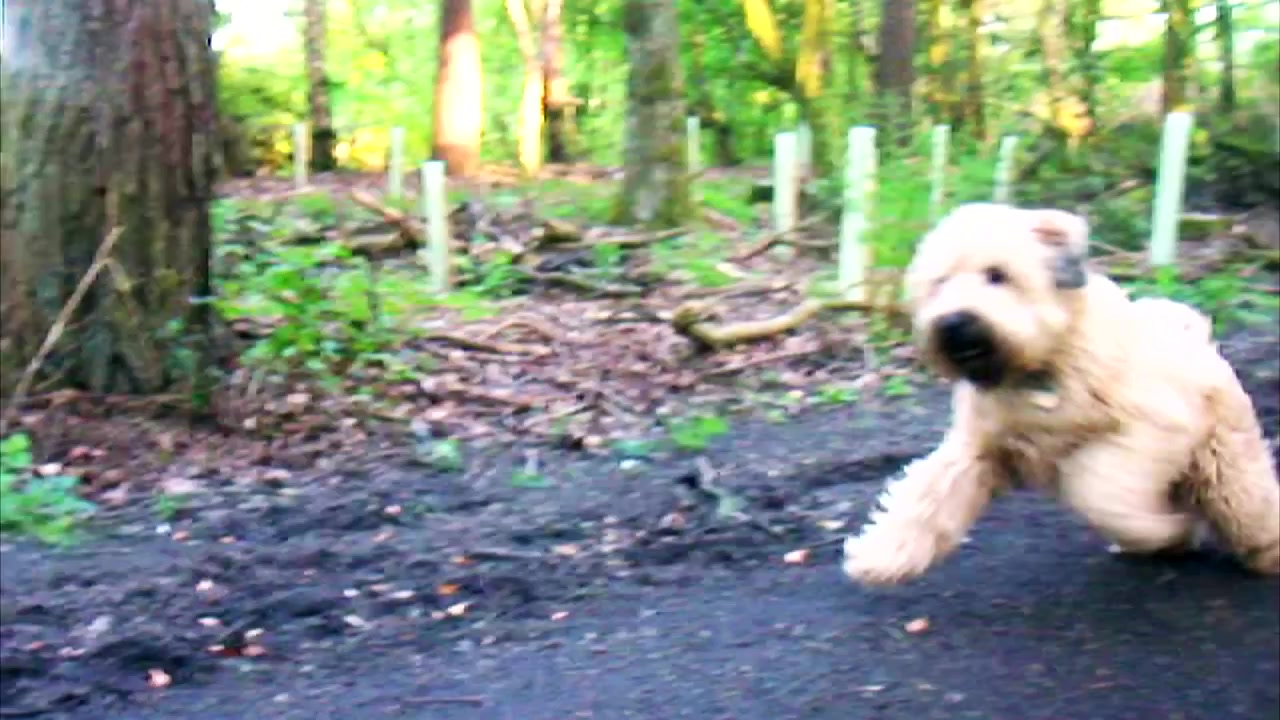dog: (837, 202, 1280, 593)
